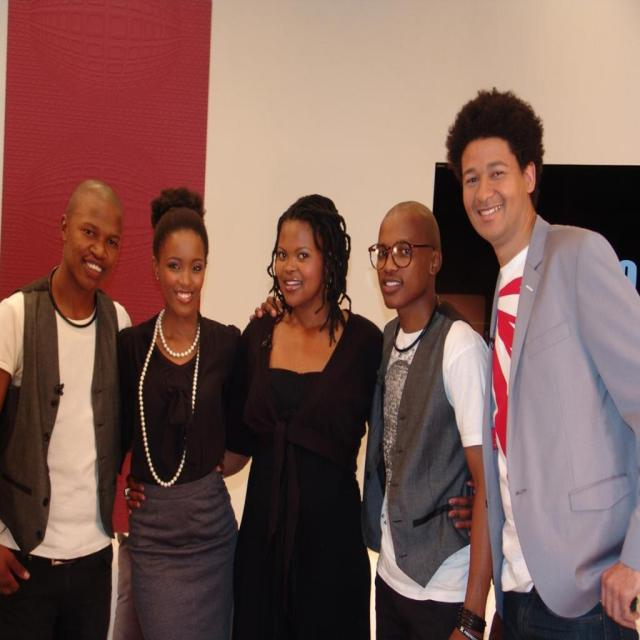Face: (456, 124, 528, 240), (372, 203, 434, 318), (265, 215, 339, 307), (72, 190, 122, 300), (162, 221, 213, 320)
